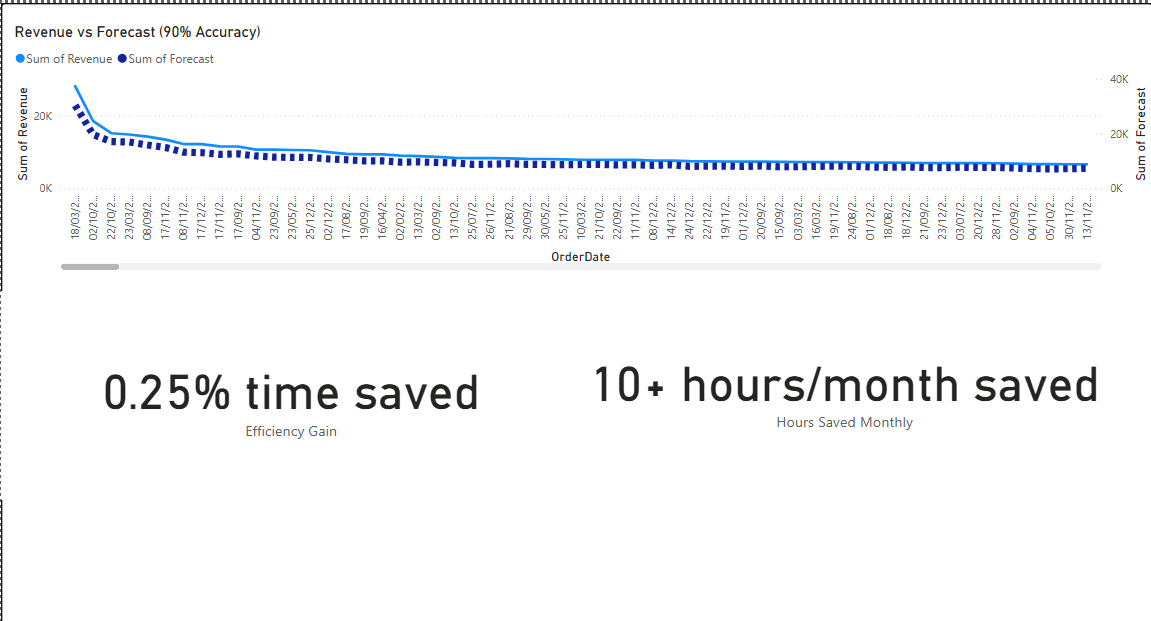

The page's visual inventory and layout, read from the dashboard file:
{"tool":"powerbi","page":{"name":"Page 1","canvas":[1280,720],"ordinal":0},"visuals":[{"type":"lineChart","title":"Revenue vs Forecast (90% Accuracy)","fields":{"Y2":["Sum(superstore_cleaned.Forecast)"],"Category":["superstore_cleaned.OrderDate"],"Y":["Sum(superstore_cleaned.Revenue)"]},"box":[10.6,21.2,1268.9,280.1],"z":0},{"type":"card","fields":{"Values":["superstore_cleaned.Efficiency Gain"]},"box":[0,319.5,645.1,231.7],"z":1},{"type":"card","fields":{"Values":["superstore_cleaned.Hours Saved Monthly"]},"box":[595.1,301.3,684.4,249.8],"z":2}]}

Visuals, with their boxes on the page's 1280x720 design canvas (x1, y1, x2, y2). These are canvas units, not pixel positions in the 1151x621 screenshot, which may show the page scaled, cropped or inside an application window:
"Revenue vs Forecast (90% Accuracy)" lineChart: pyautogui.locateOnScreen(11, 21, 1280, 301)
card - superstore_cleaned.Efficiency Gain: pyautogui.locateOnScreen(0, 320, 645, 551)
card - superstore_cleaned.Hours Saved Monthly: pyautogui.locateOnScreen(595, 301, 1280, 551)
